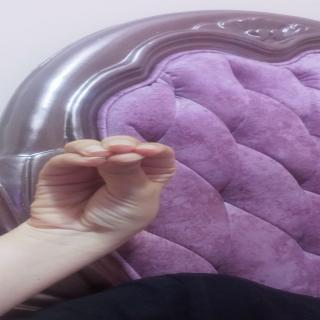HA: (24, 136, 215, 233)
